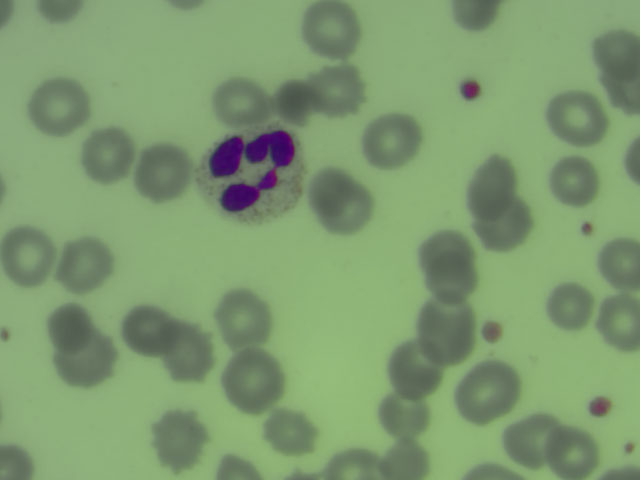Platelets: (478, 316, 507, 348), (457, 75, 485, 108), (587, 389, 614, 422), (576, 218, 599, 241), (1, 320, 15, 353), (619, 440, 638, 458)
RBC: (390, 337, 448, 395), (365, 113, 418, 167), (424, 262, 477, 316), (421, 307, 474, 361), (544, 280, 597, 334), (548, 153, 601, 207), (548, 90, 601, 144), (545, 426, 598, 480), (504, 410, 557, 464), (463, 364, 516, 418), (378, 386, 431, 440), (263, 403, 316, 457), (226, 353, 279, 407), (216, 291, 269, 345), (215, 77, 268, 131), (151, 410, 204, 464), (162, 324, 215, 378), (122, 302, 175, 356), (56, 329, 109, 383), (41, 301, 94, 355), (57, 237, 110, 291), (136, 145, 189, 199), (78, 127, 131, 181), (33, 80, 86, 134), (313, 174, 366, 228), (310, 62, 363, 116), (265, 74, 318, 128), (480, 195, 533, 249), (463, 158, 516, 212), (303, 1, 356, 54), (1, 229, 53, 283), (594, 294, 640, 353), (594, 234, 640, 292), (588, 27, 640, 75), (381, 432, 433, 480), (416, 227, 479, 266), (599, 63, 640, 120), (327, 448, 389, 480), (448, 1, 501, 34), (215, 447, 263, 479), (1, 443, 40, 480), (37, 1, 81, 26)
WBC: (203, 126, 302, 218)
